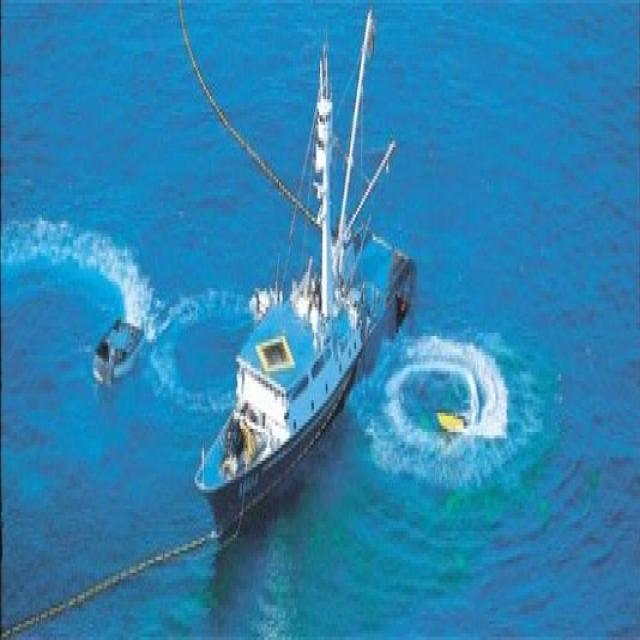Ship: (188, 1, 424, 564)
